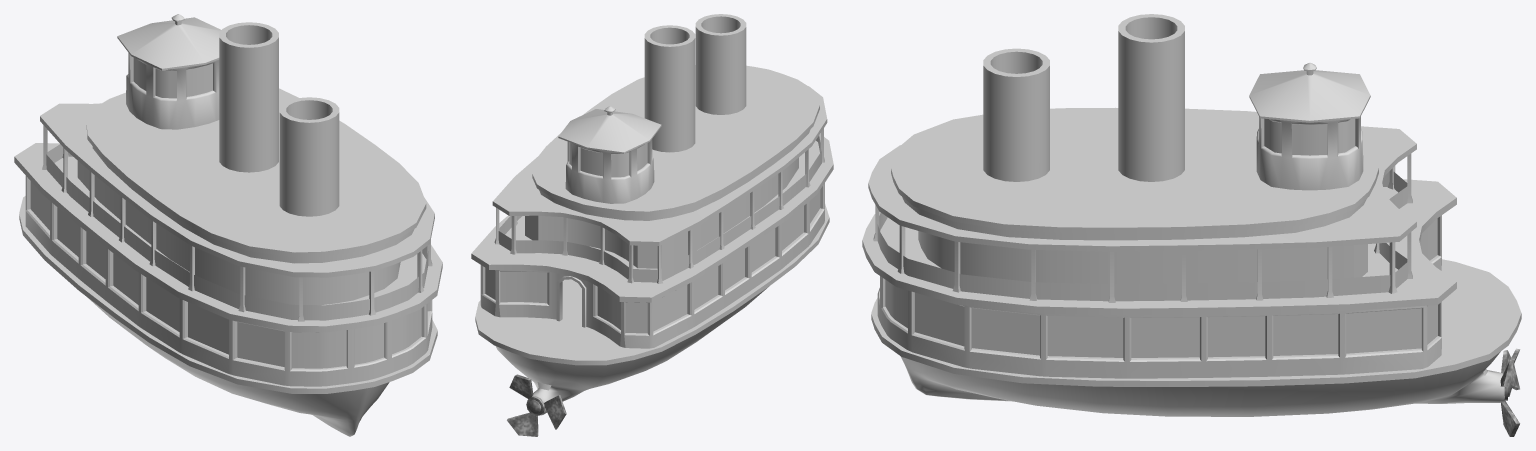
The model's file is Ferry Exterior.fbx.
3 views of the same model, side by side, from view 1: azimuth 30°, elevation 25°; view 2: azimuth 150°, elevation 25°; view 3: azimuth 270°, elevation 25° (orthographic). The views are drawn at different scales.
Visible parts, largest first — view 1: Ferry Top, Ferry Level 1, Windows, Ferry Floor 2, Cylinder002, Ferry Hull, Ferry Roof, Ferry Floor 2 Walls, Cylinder003, Ferry Floor 2 Walls001, Roof, Cylinder001 (+2 smaller); view 2: Ferry Top, Ferry Hull, Ferry Floor 2, Ferry Level 1, Windows, Ferry Roof, Cylinder002, Ferry Floor 2 Walls, Cylinder003, Ferry Floor 2 Walls001, Cylinder001, Roof (+4 smaller); view 3: Ferry Top, Ferry Hull, Windows, Ferry Level 1, Ferry Floor 2, Ferry Floor 2 Walls, Ferry Roof, Cylinder002, Ferry Floor 2 Walls001, Cylinder003, Roof, Cylinder001 (+3 smaller).
Boxes of the visible parts, bbox=[...] form: Ferry Top: bbox=[86, 88, 426, 263]; Ferry Level 1: bbox=[25, 176, 432, 386]; Windows: bbox=[30, 181, 421, 368]; Ferry Floor 2: bbox=[14, 143, 442, 332]; Cylinder002: bbox=[219, 22, 278, 172]; Ferry Hull: bbox=[19, 196, 437, 436]; Ferry Roof: bbox=[40, 103, 434, 277]; Ferry Floor 2 Walls: bbox=[77, 161, 400, 305]; Cylinder003: bbox=[279, 97, 339, 216]; Ferry Floor 2 Walls001: bbox=[46, 144, 428, 320]; Roof: bbox=[117, 14, 221, 70]; Cylinder001: bbox=[126, 53, 219, 129]; Ferry Top: bbox=[532, 65, 819, 220]; Ferry Hull: bbox=[475, 204, 829, 415]; Ferry Floor 2: bbox=[471, 134, 833, 302]; Ferry Level 1: bbox=[480, 183, 824, 348]; Windows: bbox=[485, 190, 820, 333]; Ferry Roof: bbox=[492, 86, 827, 245]; Cylinder002: bbox=[644, 25, 695, 152]; Ferry Floor 2 Walls: bbox=[525, 157, 798, 268]; Cylinder003: bbox=[695, 14, 746, 114]; Ferry Floor 2 Walls001: bbox=[498, 135, 821, 282]; Cylinder001: bbox=[565, 139, 654, 203]; Roof: bbox=[558, 106, 661, 153]; Ferry Top: bbox=[891, 107, 1378, 240]; Ferry Hull: bbox=[871, 259, 1521, 416]; Windows: bbox=[885, 218, 1437, 357]; Ferry Level 1: bbox=[877, 215, 1441, 378]; Ferry Floor 2: bbox=[862, 179, 1456, 315]; Ferry Floor 2 Walls: bbox=[918, 231, 1367, 284]; Ferry Roof: bbox=[868, 126, 1416, 251]; Cylinder002: bbox=[1118, 14, 1184, 181]; Ferry Floor 2 Walls001: bbox=[877, 171, 1408, 301]; Cylinder003: bbox=[983, 48, 1049, 181]; Roof: bbox=[1249, 63, 1370, 122]; Cylinder001: bbox=[1256, 116, 1363, 190].
Size of the model in its own units: 845 by 1143 by 1708.
